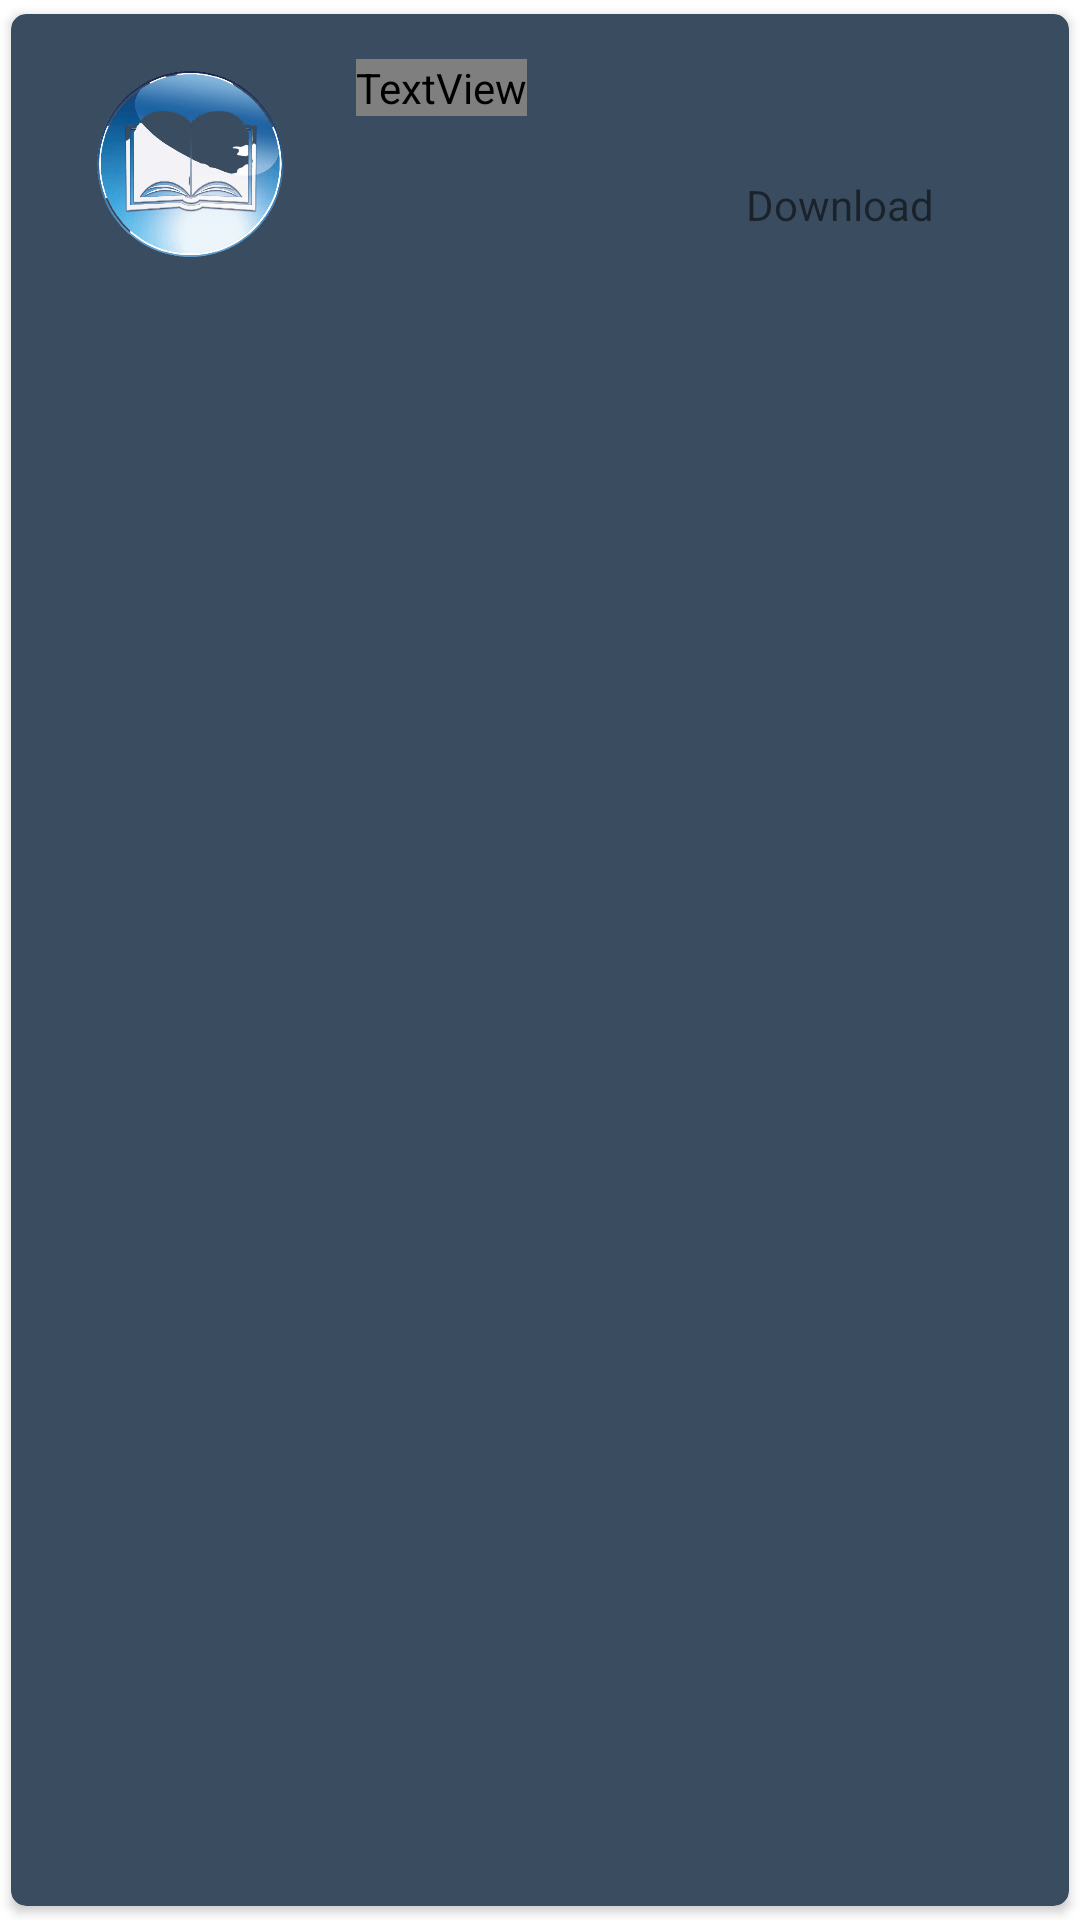

Named icons in this screenshot (1080px×1920px) and their centers, (x,y):
bookico: (190,164)
